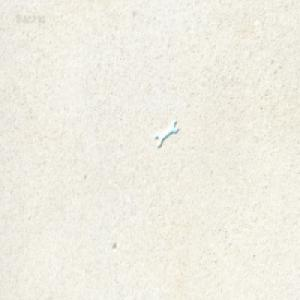Wrench: (154, 118, 176, 147)
